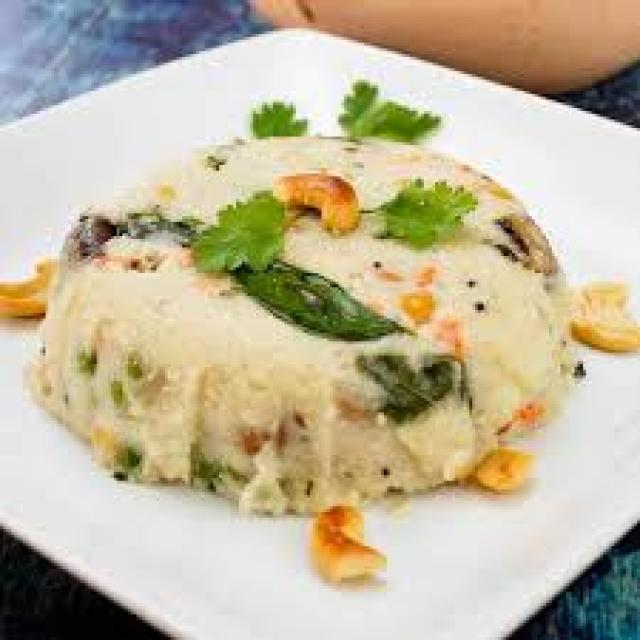UPMA: (34, 133, 582, 507)
